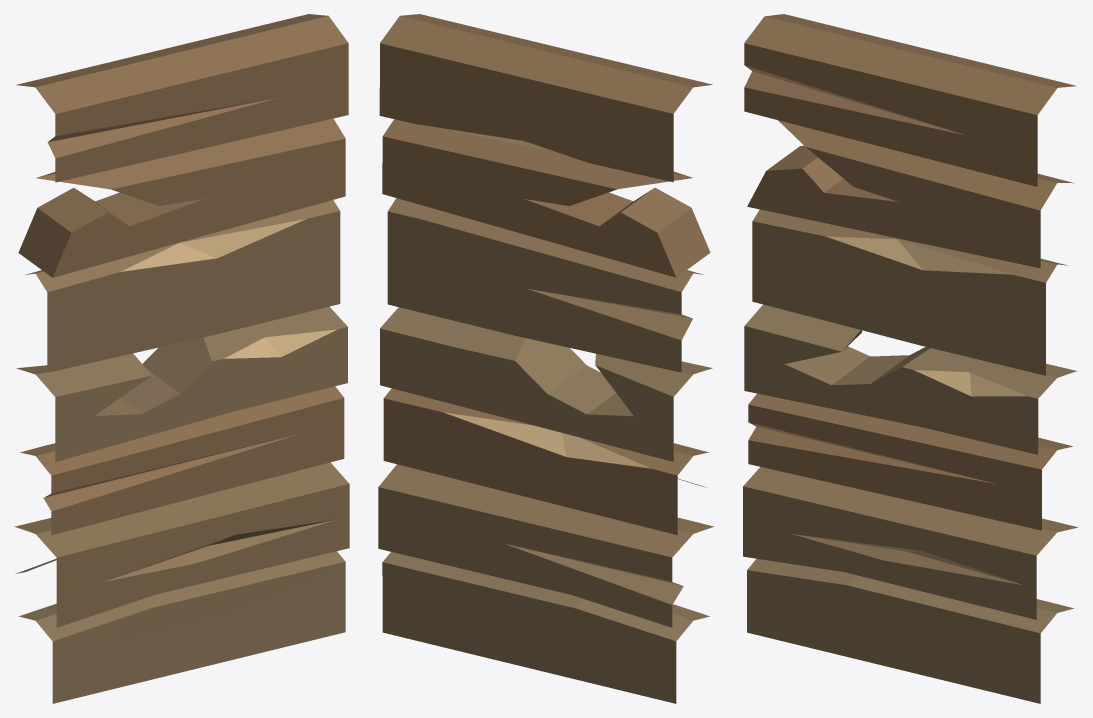
The model's file is rpgpp_av_wall_01_1.5x3_b.gltf.
3 views of the same model, side by side, from view 1: azimuth 30°, elevation 25°; view 2: azimuth 150°, elevation 25°; view 3: azimuth 330°, elevation 25° (orthographic).
Parts seen in each view (by area): view 1: rpgpp_av_wall_01_1.5x3_b; view 2: rpgpp_av_wall_01_1.5x3_b; view 3: rpgpp_av_wall_01_1.5x3_b.
Part boxes in pixels (box(x1,y1,x2,y2)): rpgpp_av_wall_01_1.5x3_b: box(15, 14, 349, 703); rpgpp_av_wall_01_1.5x3_b: box(378, 14, 713, 703); rpgpp_av_wall_01_1.5x3_b: box(743, 14, 1078, 703).
Size of the model in its own units: 0.015 by 0.03 by 0.00378.
Materials: 1 (1 with a texture image).
